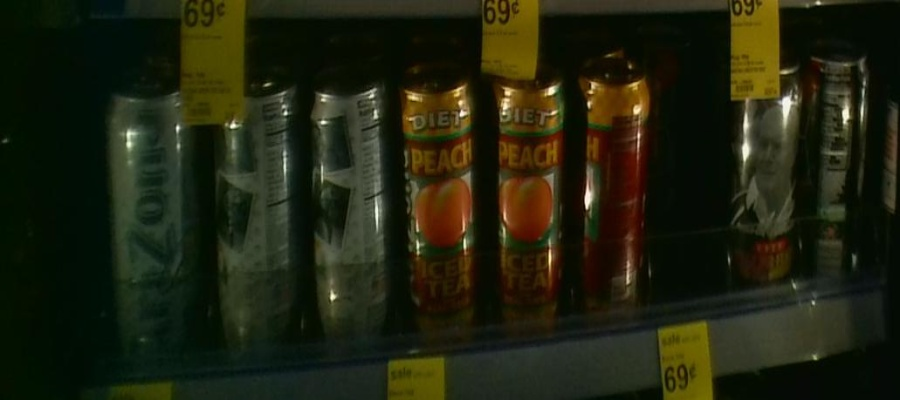bottle: (101, 74, 200, 297), (206, 68, 300, 290), (307, 70, 393, 284), (493, 62, 571, 282), (575, 52, 650, 266), (399, 80, 477, 274), (730, 56, 799, 269), (806, 38, 874, 240)
